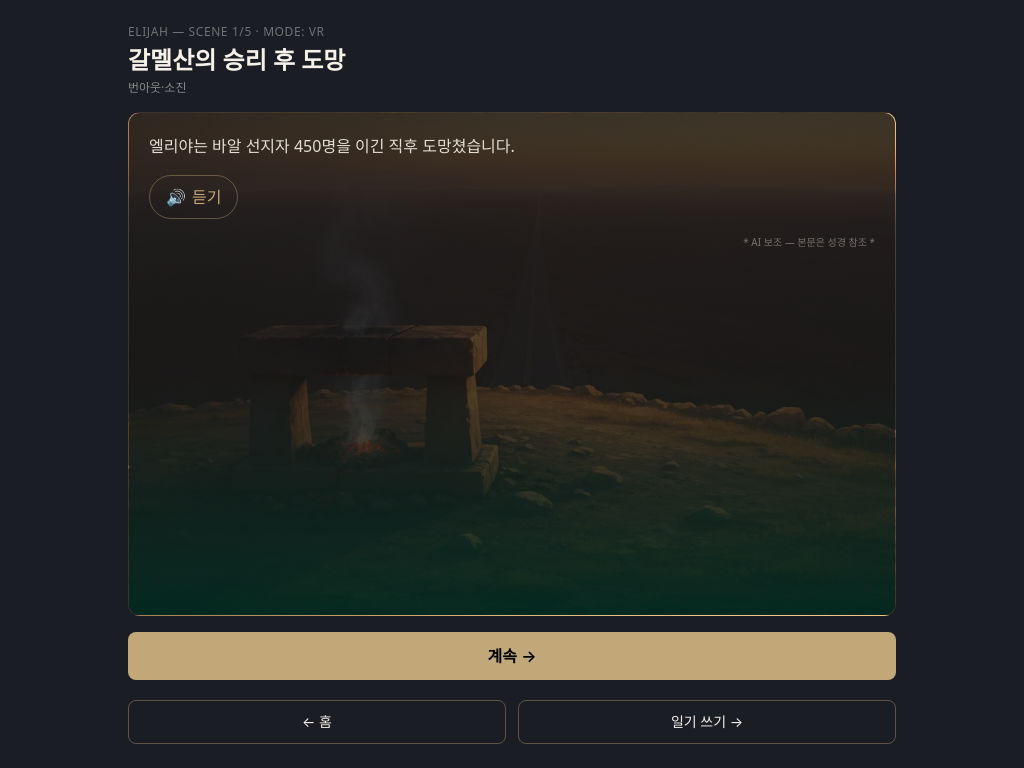
Scenario: 엘리야 미션 — 씬 상태 기계 › 진행 기록에 지나온 씬 제목이 쌓인다
This screenshot has width=1024, height=768.
Check: the text "진행 기록" is not shown
Click the button "계속 →" at [512, 656], box [128, 632, 896, 680]
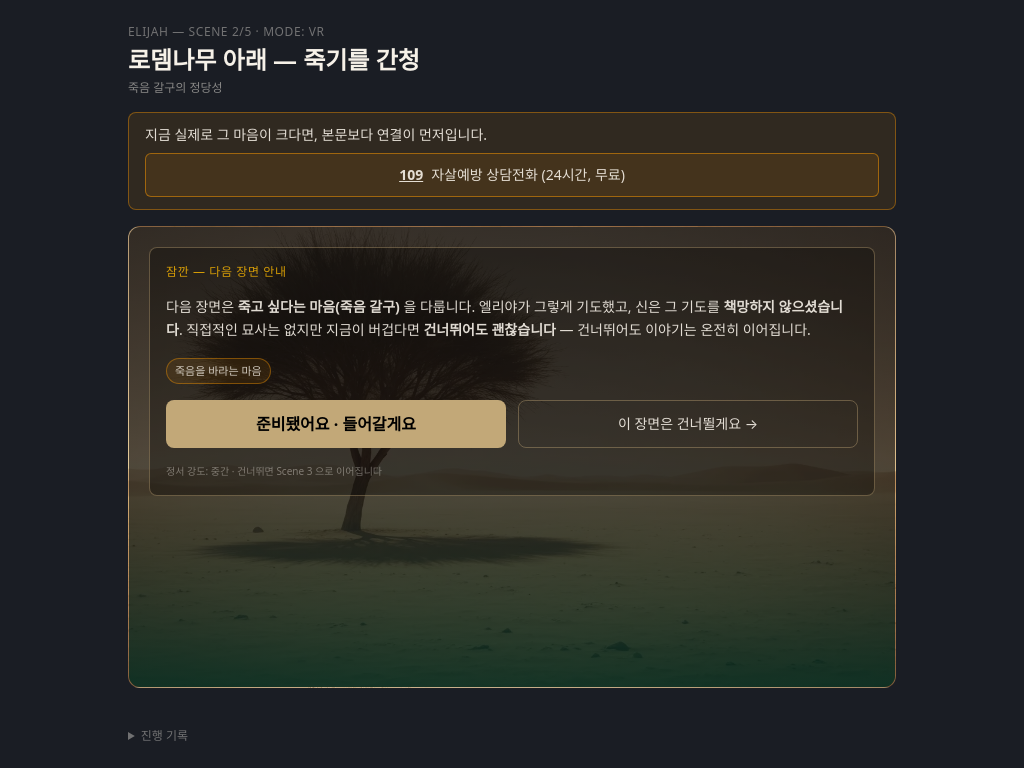
Check: the text "죽기를 간청" is shown, box [128, 43, 420, 76]
